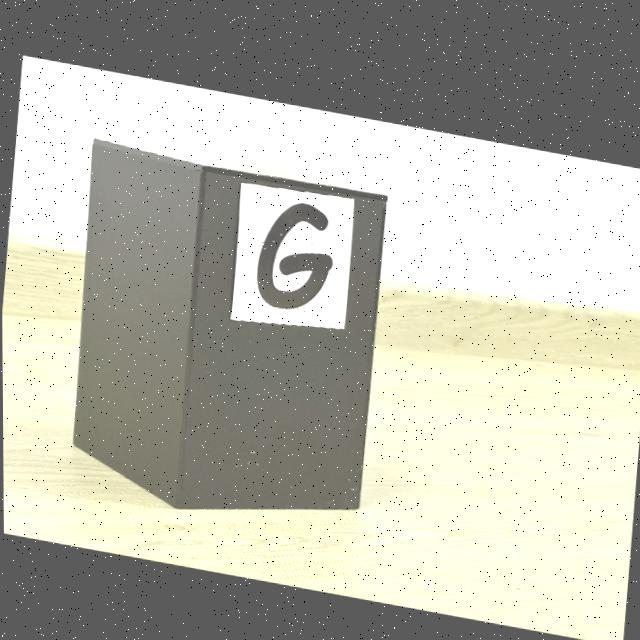G: (256, 196, 331, 304)
